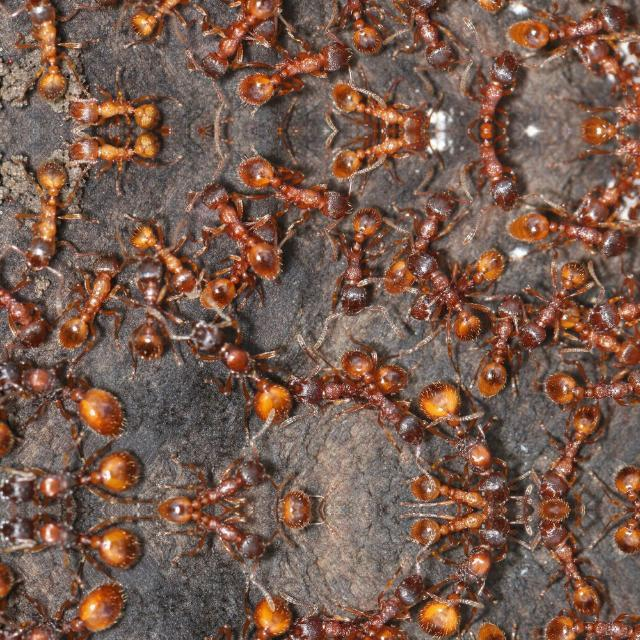Myrmica: (189, 324, 309, 426), (0, 153, 94, 273), (518, 403, 618, 509), (518, 510, 618, 616), (10, 354, 142, 434), (223, 148, 361, 224), (399, 246, 513, 338), (223, 36, 361, 112), (316, 206, 404, 322), (408, 380, 512, 478), (408, 541, 512, 639), (0, 0, 94, 106), (7, 443, 153, 507), (7, 512, 153, 576), (46, 250, 130, 354), (188, 182, 290, 266), (110, 211, 212, 293), (510, 254, 600, 346), (197, 214, 285, 306), (151, 448, 283, 508), (151, 511, 283, 571), (188, 0, 288, 78), (340, 364, 436, 444), (442, 130, 536, 210), (442, 50, 536, 130), (10, 584, 142, 640), (386, 188, 468, 272), (120, 256, 186, 360), (286, 356, 404, 410), (340, 574, 436, 640), (468, 292, 530, 394), (323, 81, 445, 130), (509, 4, 636, 51), (323, 130, 445, 178), (509, 210, 636, 256), (384, 0, 467, 70), (189, 592, 309, 640), (556, 300, 636, 368), (60, 132, 178, 176), (60, 84, 178, 128), (567, 159, 639, 229), (567, 31, 639, 101), (108, 0, 211, 48), (314, 0, 404, 54), (532, 364, 638, 408), (403, 470, 511, 508), (403, 511, 511, 549), (197, 0, 285, 46), (286, 608, 404, 640), (0, 368, 36, 459), (572, 130, 640, 178), (572, 82, 640, 130), (0, 283, 52, 345), (532, 610, 636, 640), (0, 558, 36, 640), (597, 260, 639, 328), (259, 485, 341, 509), (259, 510, 341, 534), (601, 510, 639, 560), (601, 459, 639, 508)
